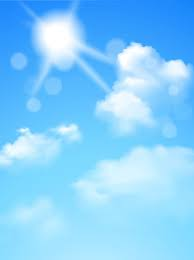sky: (1, 1, 194, 258)
